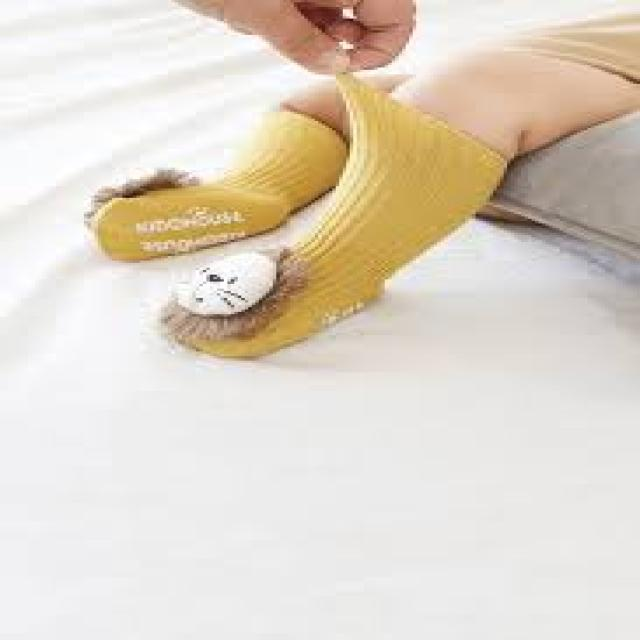sock: (158, 68, 510, 358)
